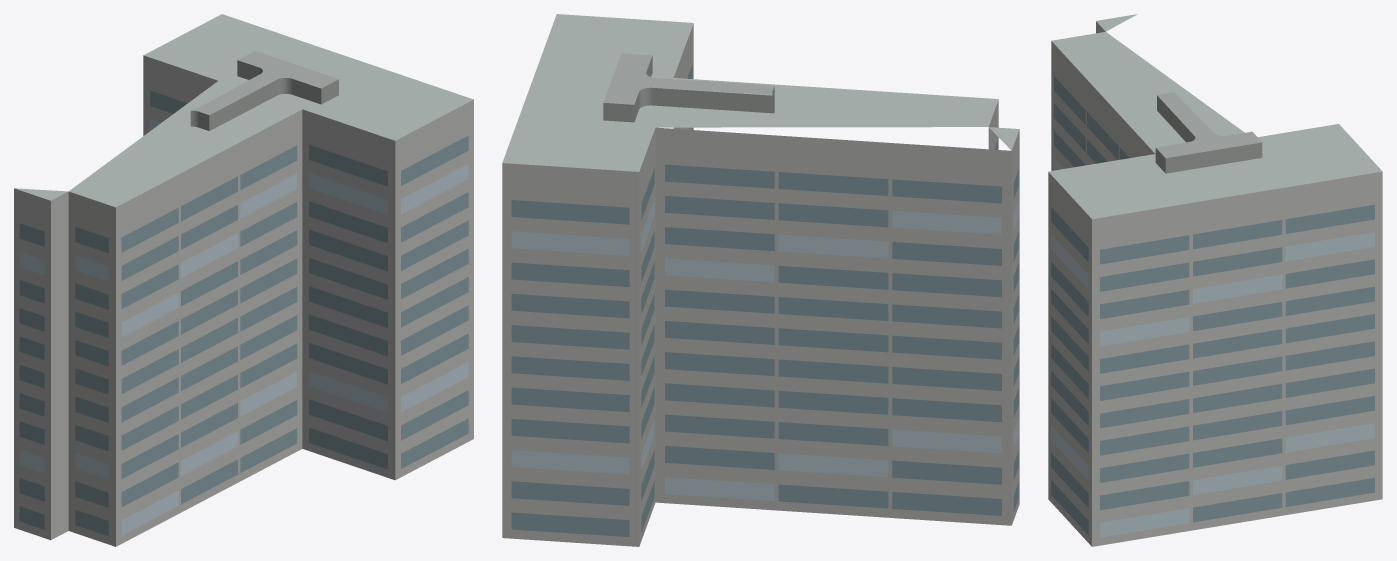
The model's file is apt-a13790604.glb.
3 renders of one model, left to right at view 1: azimuth 30°, elevation 25°; view 2: azimuth 150°, elevation 25°; view 3: azimuth 270°, elevation 25°, orthographic. The views are drawn at different scales.
Visible parts, largest first — view 1: apt-a13790604; view 2: apt-a13790604; view 3: apt-a13790604.
Part boxes in pixels (x1,y1,x2,y2): apt-a13790604: (14, 14, 473, 546); apt-a13790604: (502, 14, 1019, 546); apt-a13790604: (1048, 14, 1382, 546).
Size of the model in its own units: 47.47 by 37 by 32.69.
